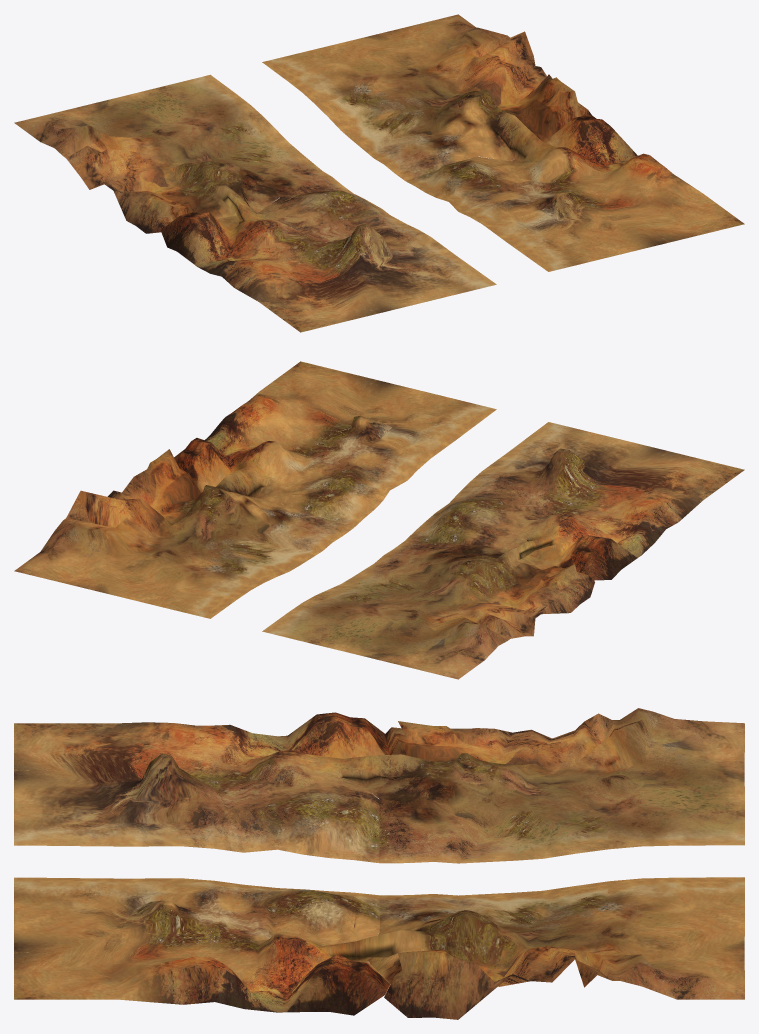
File: road-7DES_side-2.FBX
3 views of the same model, one above another, from view 1: azimuth 30°, elevation 25°; view 2: azimuth 150°, elevation 25°; view 3: azimuth 270°, elevation 25° (orthographic). The views are drawn at different scales.
Parts seen in each view (by area): view 1: Object041, Object042; view 2: Object041, Object042; view 3: Object042, Object041.
Part boxes in pixels (box(x1,y1,x2,y2)): Object041: box(262, 14, 744, 271); Object042: box(14, 74, 496, 332); Object041: box(14, 361, 496, 618); Object042: box(262, 422, 744, 679); Object042: box(14, 708, 744, 863); Object041: box(14, 877, 744, 1019).
Bounding box in the file's own units: 48717 × 5200 × 54414.
